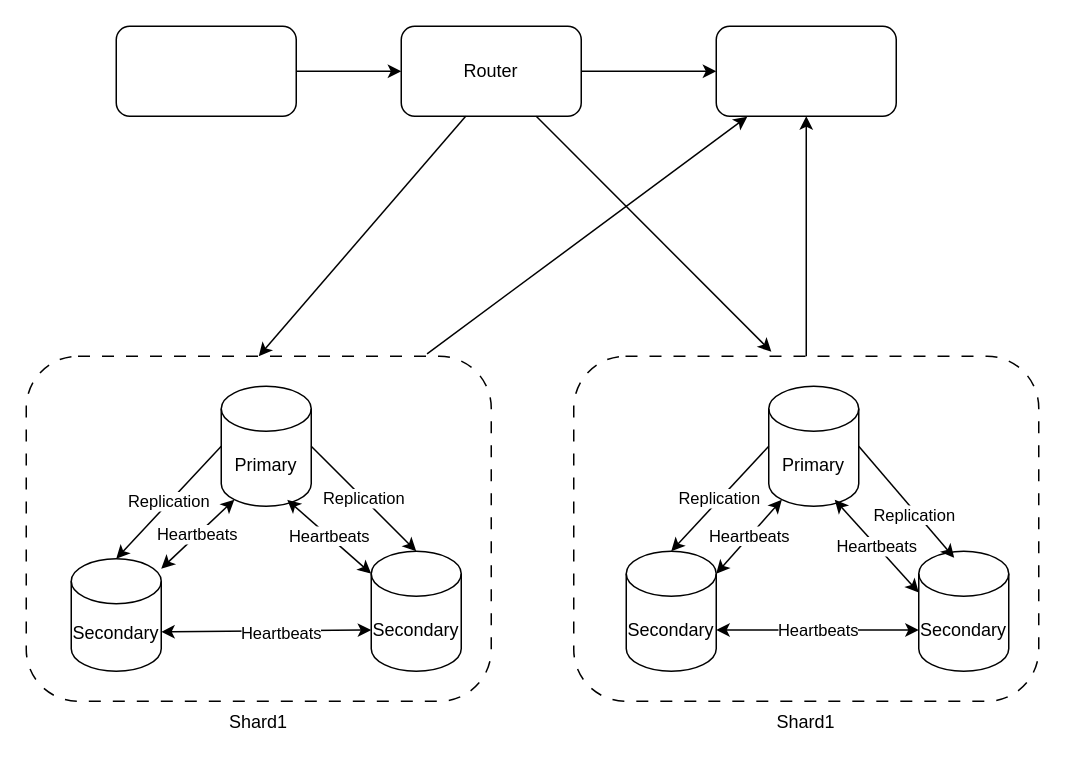
Image size: 1065x759. Some labels were removed from this diagram. Each missing label, with the box of its shape:
Configutation Server: (715, 25, 896, 116)
pymongo-api: (115, 25, 296, 116)
